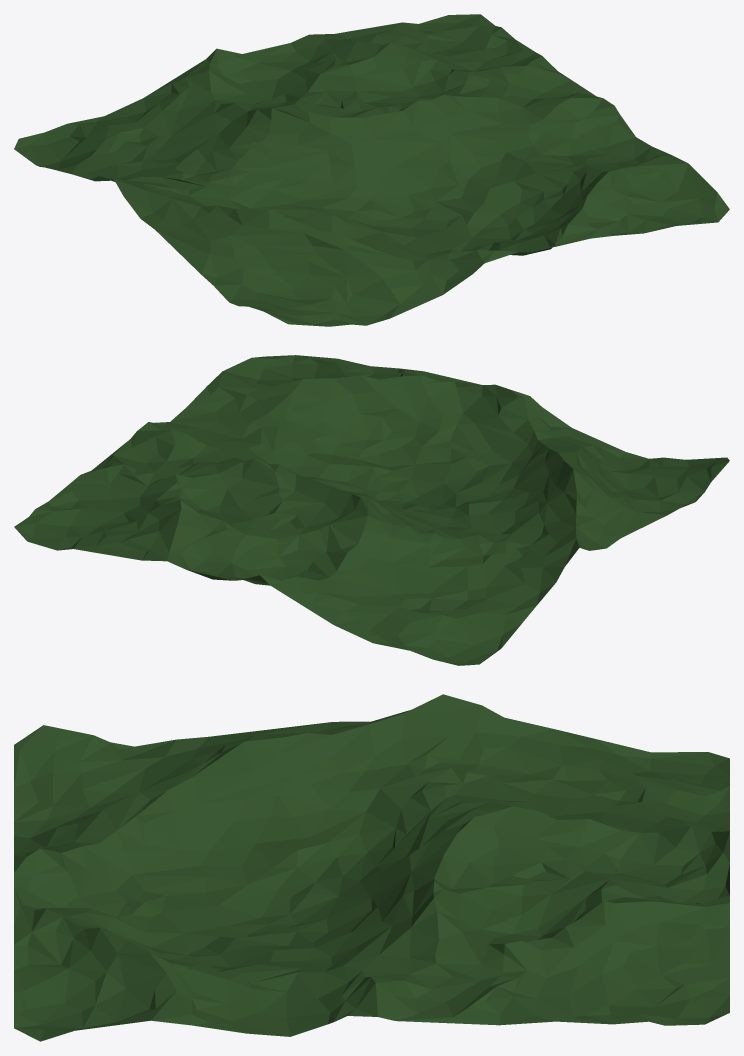
Rendered from SM_landscape_16.fbx.
The picture shows the model from 3 angles, top to bottom: view 1: azimuth 30°, elevation 25°; view 2: azimuth 150°, elevation 25°; view 3: azimuth 270°, elevation 25°; orthographic projection. The views are drawn at different scales.
Visible parts, largest first — view 1: landscape_16; view 2: landscape_16; view 3: landscape_16.
Boxes of the visible parts, bbox=[...] form: landscape_16: bbox=[14, 14, 729, 326]; landscape_16: bbox=[14, 355, 729, 665]; landscape_16: bbox=[14, 694, 729, 1041].
Bounding box in the file's own units: 2224 × 298 × 2224.
